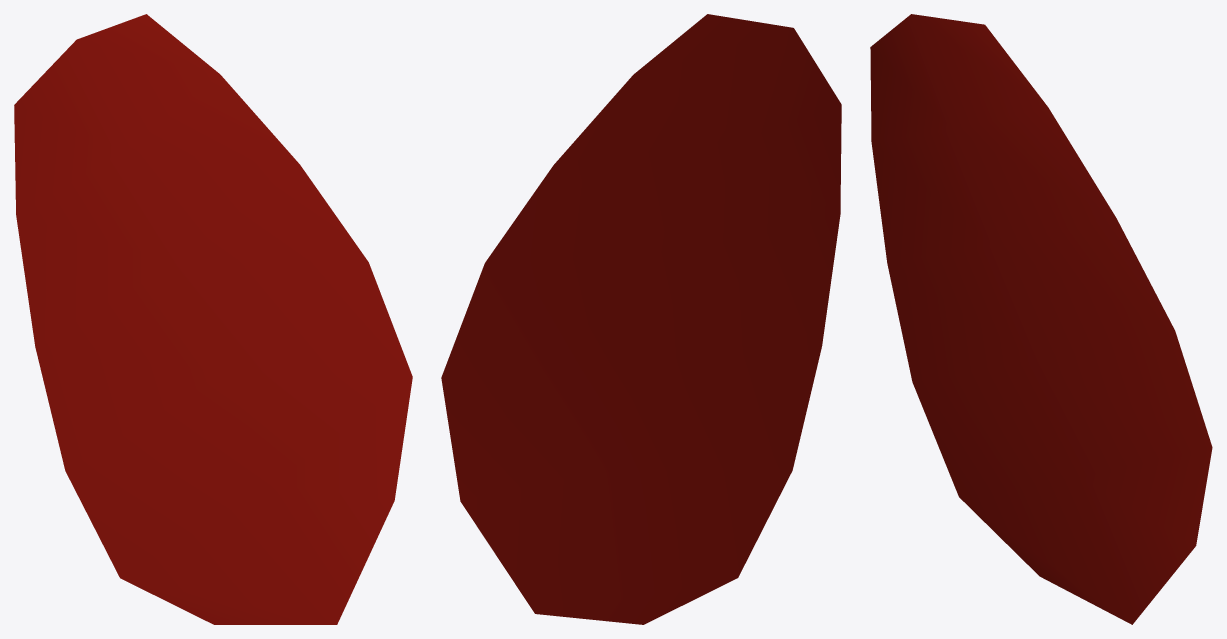
File: ara_feather_flight_tertiary_022.obj
3 views of the same model, side by side, from view 1: azimuth 30°, elevation 25°; view 2: azimuth 150°, elevation 25°; view 3: azimuth 330°, elevation 25° (orthographic). The views are drawn at different scales.
Parts seen in each view (by area): view 1: feather_flight_tertiary_022; view 2: feather_flight_tertiary_022; view 3: feather_flight_tertiary_022.
Boxes of the visible parts, left/top/right/bottom form: feather_flight_tertiary_022: left=14, top=14, right=412, bottom=624; feather_flight_tertiary_022: left=441, top=14, right=841, bottom=624; feather_flight_tertiary_022: left=870, top=14, right=1212, bottom=624.
Size of the model in its own units: 0.0214 by 0.0332 by 0.000881.
